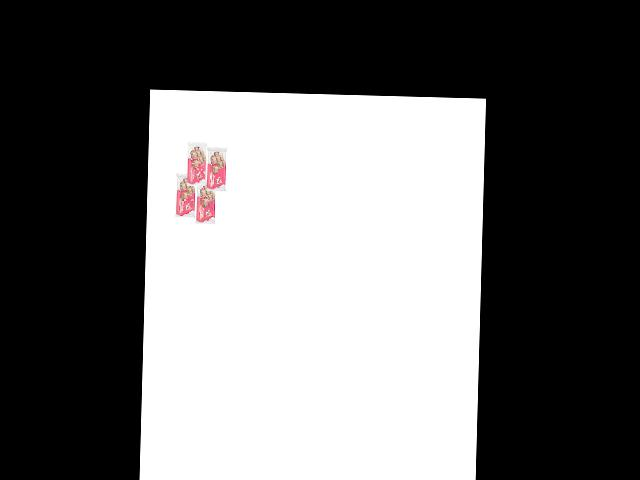chocolate: (173, 170, 199, 221)
